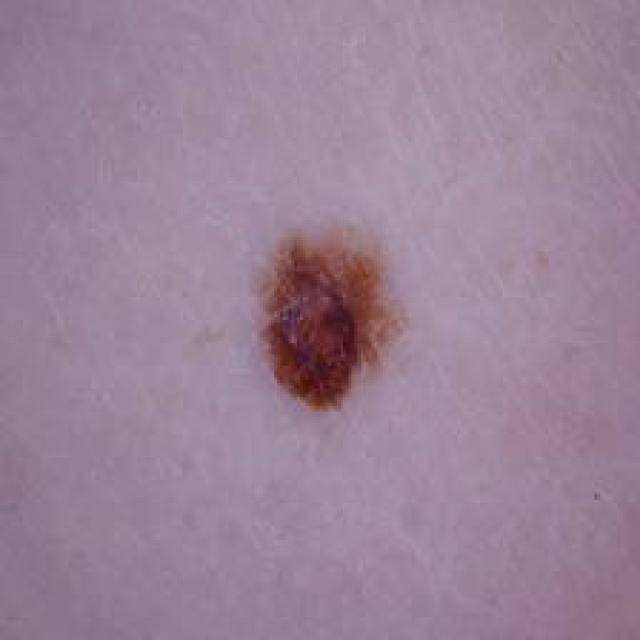Cancer: (254, 220, 406, 411)
